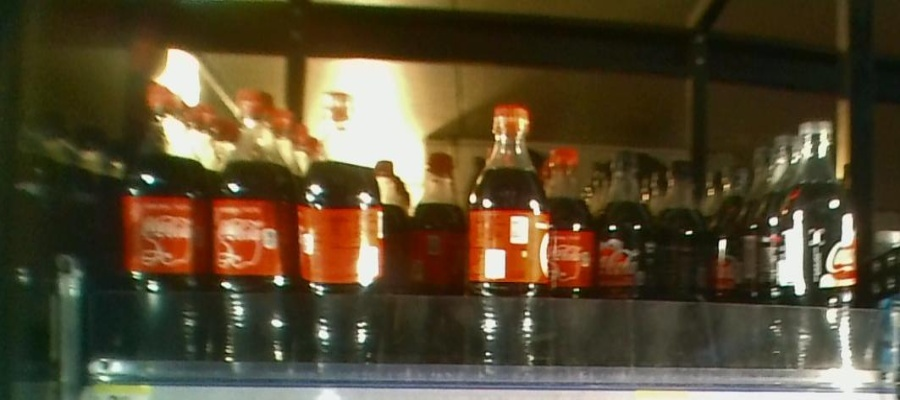bottle: (292, 76, 383, 374), (123, 84, 209, 372), (212, 86, 291, 374), (468, 104, 550, 379), (782, 117, 855, 372), (404, 129, 464, 373), (602, 141, 656, 367), (656, 144, 707, 368), (552, 132, 597, 370)
